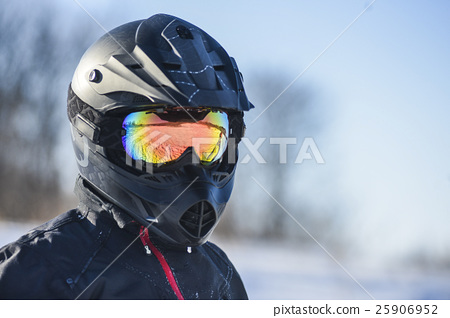helmet: (75, 14, 251, 234)
